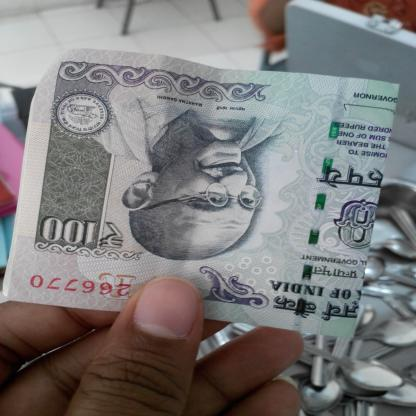Old100Front: (0, 47, 403, 340)
